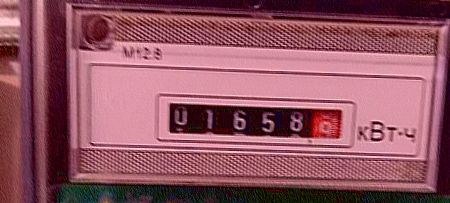0: (172, 105, 189, 126)
1: (202, 106, 216, 131)
5: (260, 110, 276, 134)
6: (231, 108, 249, 132)
8: (288, 110, 305, 132)
9: (317, 119, 333, 140)
screen: (152, 90, 360, 153)
